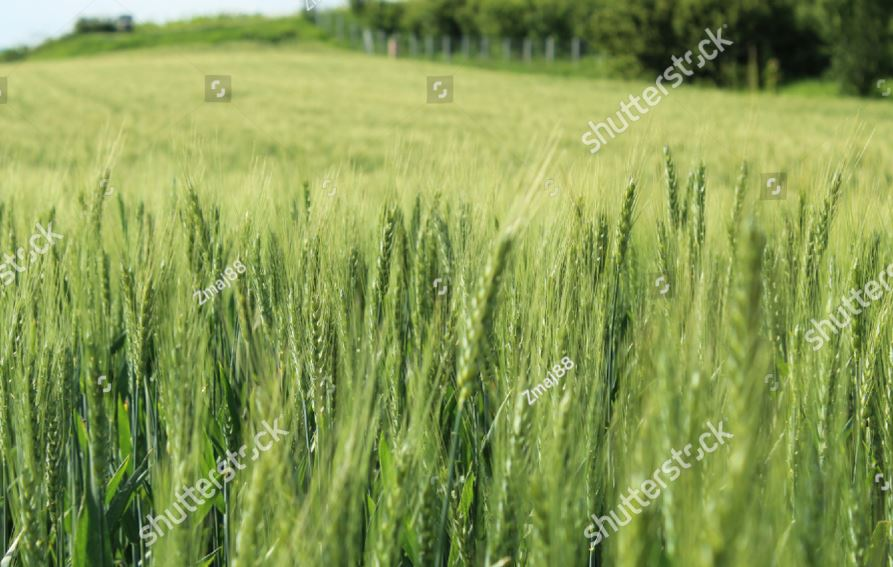Wheat: (82, 158, 751, 420)
